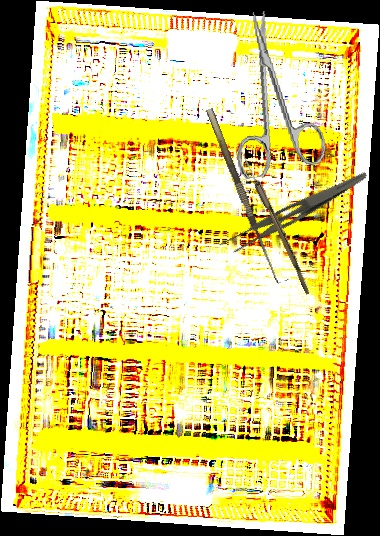Dressing Forceps: (217, 156, 369, 264)
Hook Surgical: (205, 104, 290, 286)
Iris Scissors: (217, 5, 329, 180)
Surgical Spoon: (233, 141, 314, 295)
